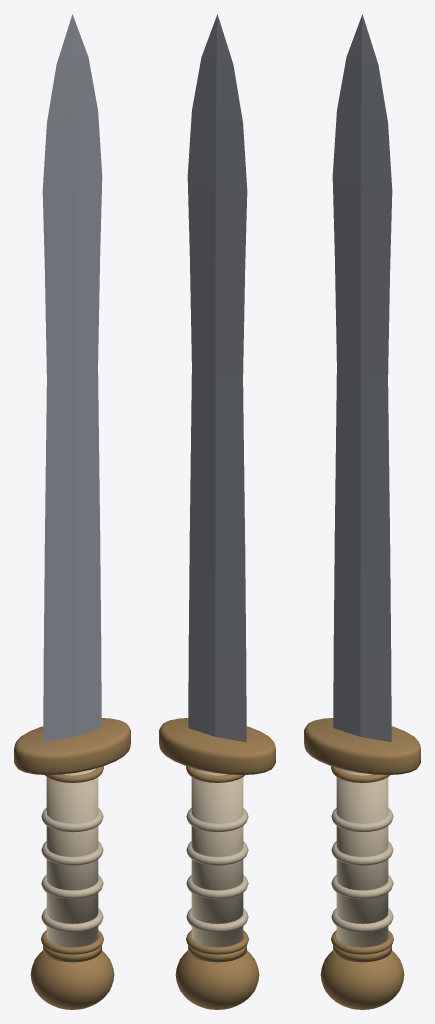
Rendered from gladius.glb.
3 views of the same model, side by side, from view 1: azimuth 30°, elevation 25°; view 2: azimuth 150°, elevation 25°; view 3: azimuth 330°, elevation 25° (orthographic).
Parts seen in each view (by area): view 1: gladius_blade, grip, guard, pommel, grip_ridge, grip_ridge.003, grip_ridge.001, grip_ridge.002, ferrule, pommel_washer, ferrule.001; view 2: gladius_blade, grip, guard, pommel, grip_ridge, grip_ridge.003, grip_ridge.001, grip_ridge.002, ferrule, pommel_washer, ferrule.001; view 3: gladius_blade, grip, guard, pommel, grip_ridge, grip_ridge.003, grip_ridge.001, grip_ridge.002, ferrule, pommel_washer, ferrule.001.
Part boxes in pixels (x1,y1,x2,y2): gladius_blade: (42, 14, 102, 742); grip: (46, 768, 98, 947); guard: (14, 718, 130, 774); pommel: (30, 950, 114, 1009); grip_ridge: (41, 908, 103, 932); grip_ridge.003: (41, 808, 103, 832); grip_ridge.001: (41, 875, 103, 898); grip_ridge.002: (41, 841, 103, 865); ferrule: (41, 930, 103, 954); pommel_washer: (43, 945, 101, 962); ferrule.001: (45, 766, 103, 782); gladius_blade: (187, 14, 247, 742); grip: (191, 768, 243, 947); guard: (159, 718, 275, 774); pommel: (175, 950, 259, 1009); grip_ridge: (186, 908, 248, 932); grip_ridge.003: (186, 808, 248, 832); grip_ridge.001: (186, 875, 248, 898); grip_ridge.002: (186, 841, 248, 865); ferrule: (186, 930, 248, 954); pommel_washer: (188, 945, 246, 962); ferrule.001: (186, 766, 244, 782); gladius_blade: (332, 14, 392, 742); grip: (336, 768, 388, 947); guard: (304, 718, 420, 774); pommel: (320, 950, 404, 1009); grip_ridge: (331, 908, 393, 932); grip_ridge.003: (331, 808, 393, 832); grip_ridge.001: (331, 875, 393, 898); grip_ridge.002: (331, 841, 393, 865); ferrule: (331, 930, 393, 954); pommel_washer: (333, 945, 391, 962); ferrule.001: (331, 766, 389, 782).
Bounding box in the file's own units: 0.104 × 0.8892 × 0.068.
